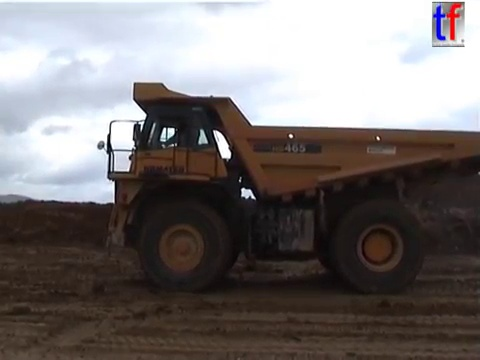truck: (95, 79, 479, 296)
